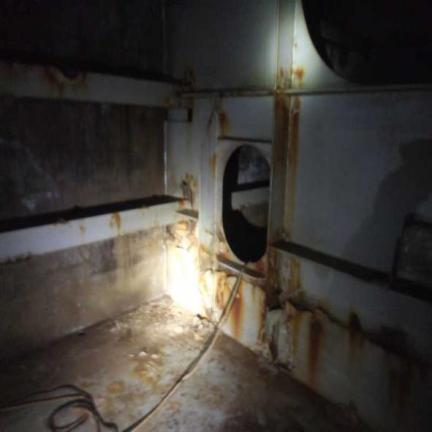besi_tidak_karat: (272, 250, 431, 426), (0, 199, 182, 263), (165, 0, 276, 89), (0, 60, 178, 106)
karat: (0, 226, 164, 359), (0, 98, 164, 222), (222, 272, 265, 350), (284, 96, 301, 239), (167, 210, 198, 272), (308, 315, 323, 385), (218, 109, 229, 137), (182, 180, 192, 206)
